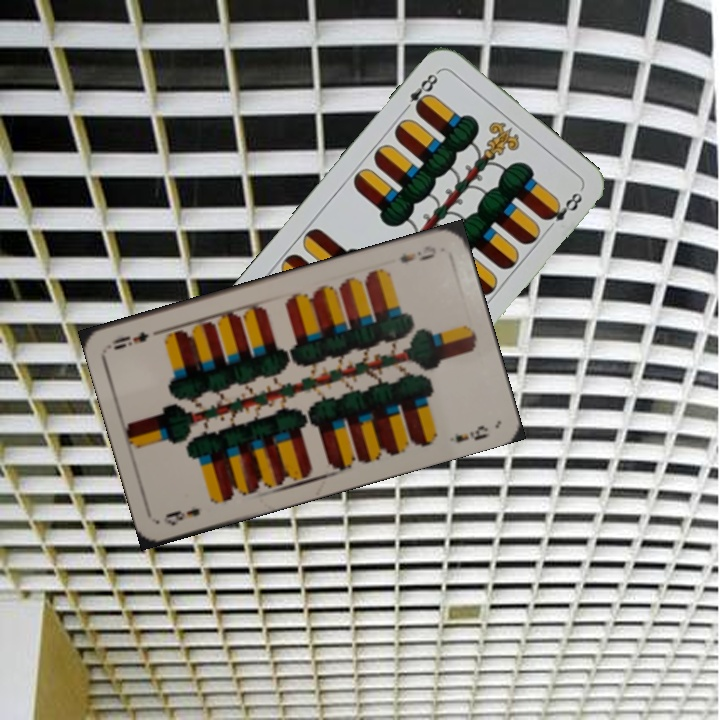E8: (399, 67, 442, 116)
E9: (396, 241, 439, 266), (159, 504, 202, 528)
